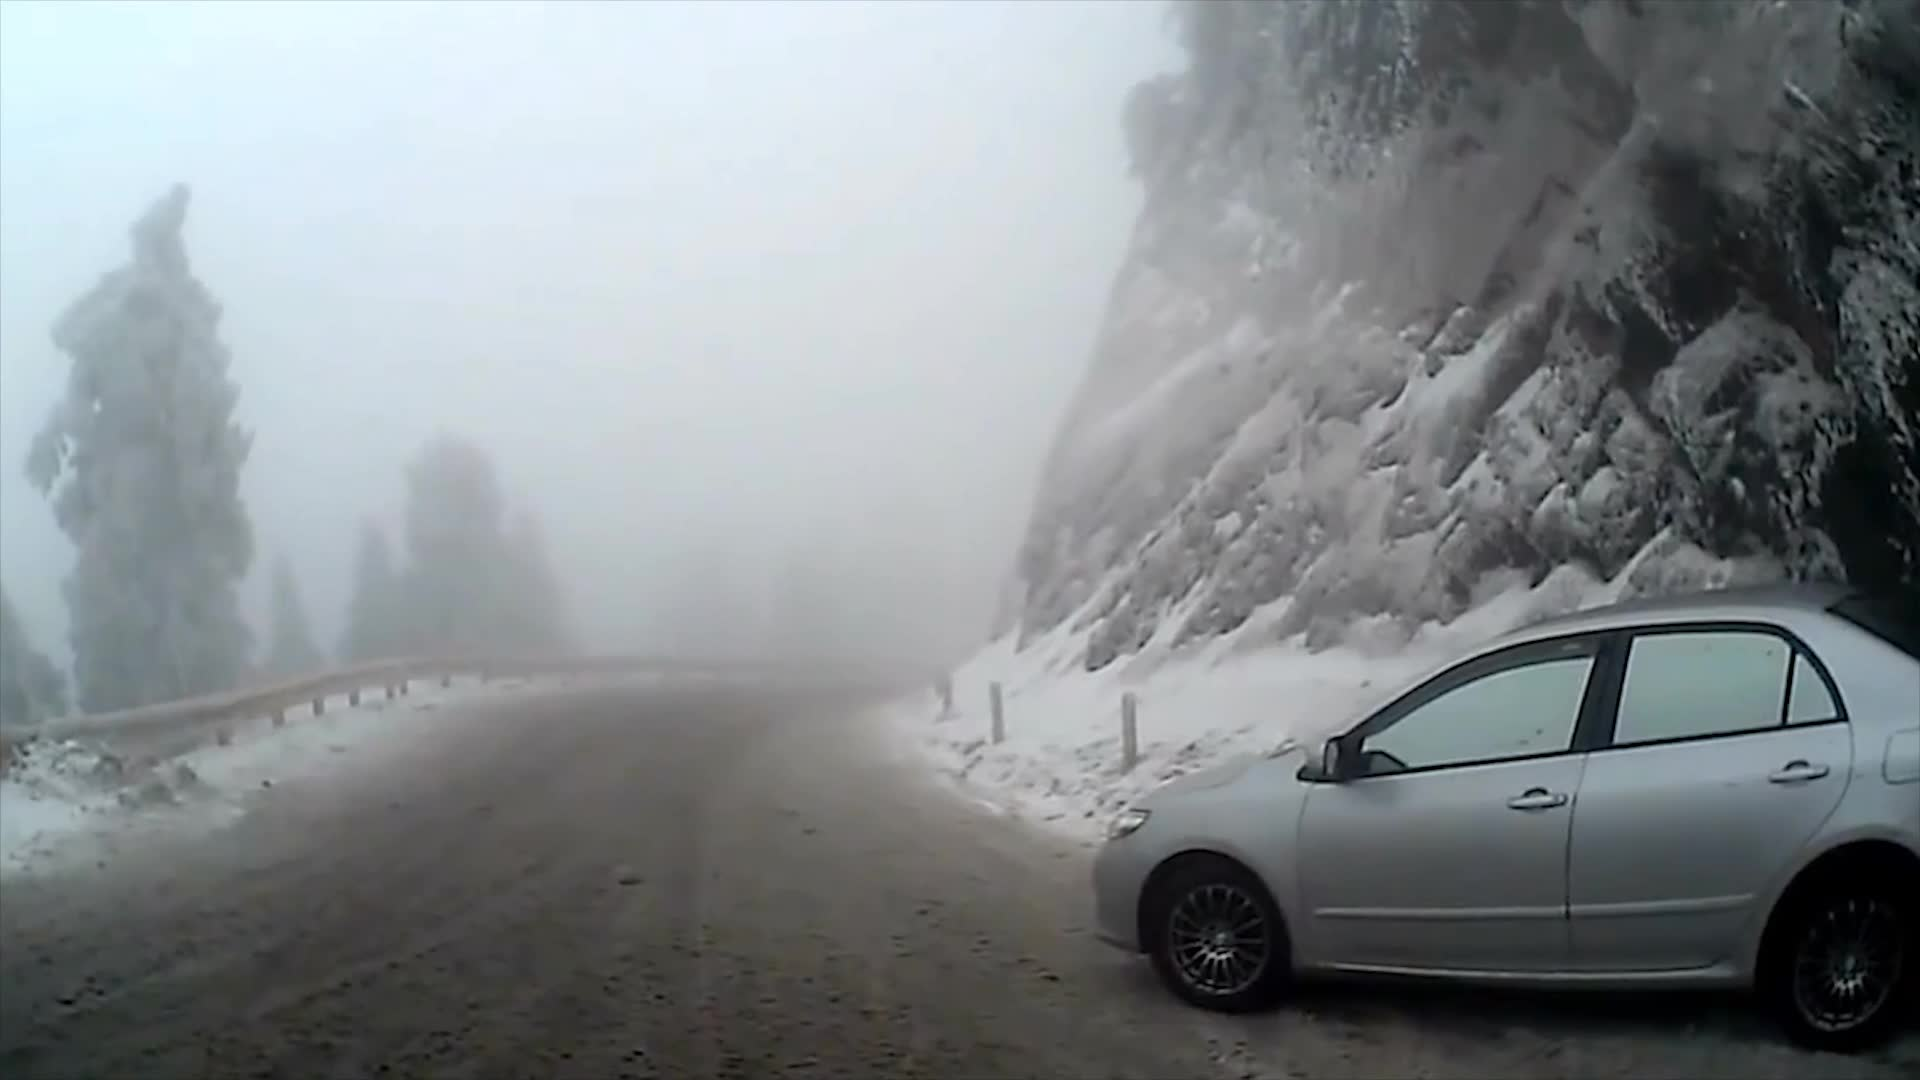vehicle: (1091, 582, 1920, 1055)
